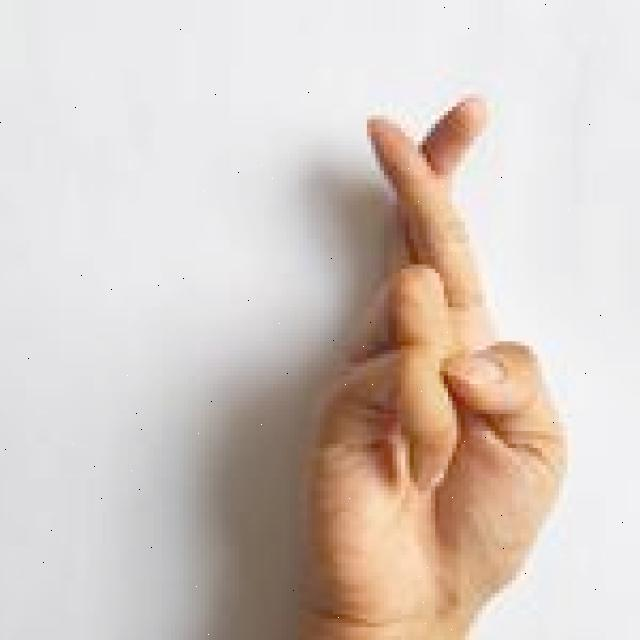R: (292, 85, 578, 640)
